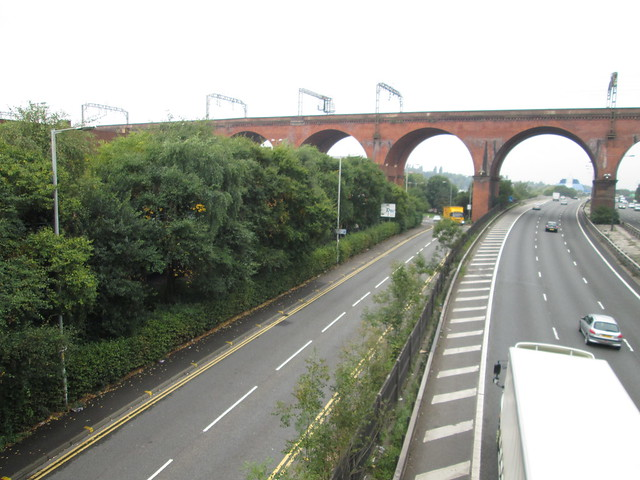bridge: (74, 105, 640, 181)
